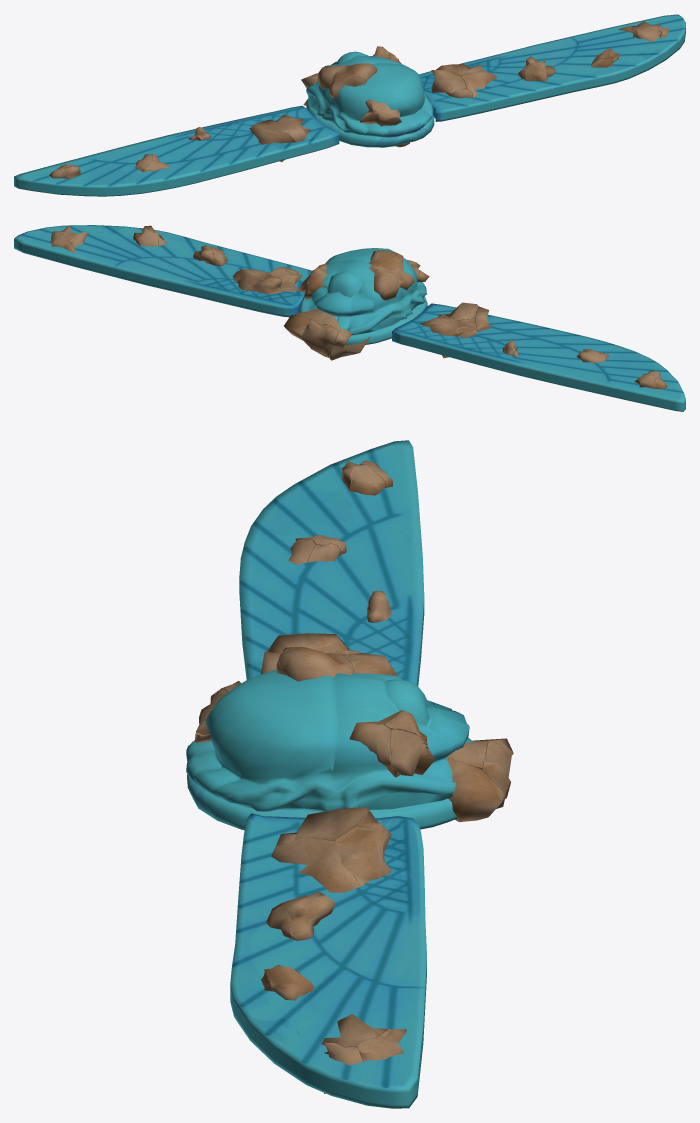
Rendered from Scarab.fbx.
3 views of the same model, one above another, from view 1: azimuth 30°, elevation 25°; view 2: azimuth 150°, elevation 25°; view 3: azimuth 270°, elevation 25° (orthographic). The views are drawn at different scales.
Parts seen in each view (by area): view 1: Left_Wing, Right_Wing, Scarab, Dirt_Jar_3_cell.001, Dirt_Jar_1_cell.004, Dirt_Jar_1_1_cell.001, Dirt_Jar_1_cell.003, Dirt_Jar_1_1_cell, Dirt_Jar_4_1_cell, Dirt_Jar_4_cell.001, Dirt_Jar_3_cell.002, Dirt_Jar_5_cell.002 (+2 smaller); view 2: Left_Wing, Right_Wing, Scarab, Dirt_Jar_2_1_cell.001, Dirt_Jar_3_cell.002, Dirt_Jar_3_cell.001, Dirt_Jar_1_1_cell.001, Dirt_Jar_2_1_cell, Dirt_Jar_1_1_cell.002, Dirt_Jar_2_1_cell.002, Dirt_Jar_1_cell.002, Dirt_Jar_1_cell.004 (+6 smaller); view 3: Right_Wing, Scarab, Left_Wing, Dirt_Jar_1_cell.003, Dirt_Jar_2_1_cell.002, Dirt_Jar_1_cell.002, Dirt_Jar_3_cell, Dirt_Jar_1_cell.004, Dirt_Jar_6_2_cell.001, Dirt_Jar_5_cell.001, Dirt_Jar_6_2_cell.002, Dirt_Jar_6_3_cell.002 (+4 smaller).
Part boxes in pixels (<box>): Left_Wing: <box>14,105,339,196</box>; Right_Wing: <box>419,14,685,121</box>; Scarab: <box>306,51,434,147</box>; Dirt_Jar_3_cell.001: <box>328,65,367,98</box>; Dirt_Jar_1_cell.004: <box>431,70,466,95</box>; Dirt_Jar_1_1_cell.001: <box>273,115,310,142</box>; Dirt_Jar_1_cell.003: <box>461,70,496,97</box>; Dirt_Jar_1_1_cell: <box>249,127,294,162</box>; Dirt_Jar_4_1_cell: <box>359,110,401,126</box>; Dirt_Jar_4_cell.001: <box>624,26,661,41</box>; Dirt_Jar_3_cell.002: <box>317,65,345,89</box>; Dirt_Jar_5_cell.002: <box>518,63,543,81</box>; Left_Wing: <box>392,303,685,411</box>; Right_Wing: <box>14,225,312,317</box>; Scarab: <box>298,248,427,344</box>; Dirt_Jar_2_1_cell.001: <box>301,320,338,357</box>; Dirt_Jar_3_cell.002: <box>374,269,401,300</box>; Dirt_Jar_3_cell.001: <box>370,254,414,290</box>; Dirt_Jar_1_1_cell.001: <box>420,302,478,327</box>; Dirt_Jar_2_1_cell: <box>329,331,370,360</box>; Dirt_Jar_1_1_cell.002: <box>429,318,476,336</box>; Dirt_Jar_2_1_cell.002: <box>284,308,316,342</box>; Dirt_Jar_1_cell.002: <box>235,269,271,290</box>; Dirt_Jar_1_cell.004: <box>270,269,302,291</box>; Right_Wing: <box>230,813,426,1108</box>; Scarab: <box>186,669,485,830</box>; Left_Wing: <box>239,440,424,685</box>; Dirt_Jar_1_cell.003: <box>271,837,360,892</box>; Dirt_Jar_2_1_cell.002: <box>447,758,505,822</box>; Dirt_Jar_1_cell.002: <box>335,827,392,886</box>; Dirt_Jar_3_cell: <box>279,646,351,681</box>; Dirt_Jar_1_cell.004: <box>295,807,369,841</box>; Dirt_Jar_6_2_cell.001: <box>391,729,434,777</box>; Dirt_Jar_5_cell.001: <box>288,891,335,940</box>; Dirt_Jar_6_2_cell.002: <box>349,722,393,775</box>; Dirt_Jar_6_3_cell.002: <box>264,965,314,1000</box>.
Bounding box in the file's own units: 207 × 23.04 × 44.28.
Materials: 2 (2 with a texture image).
